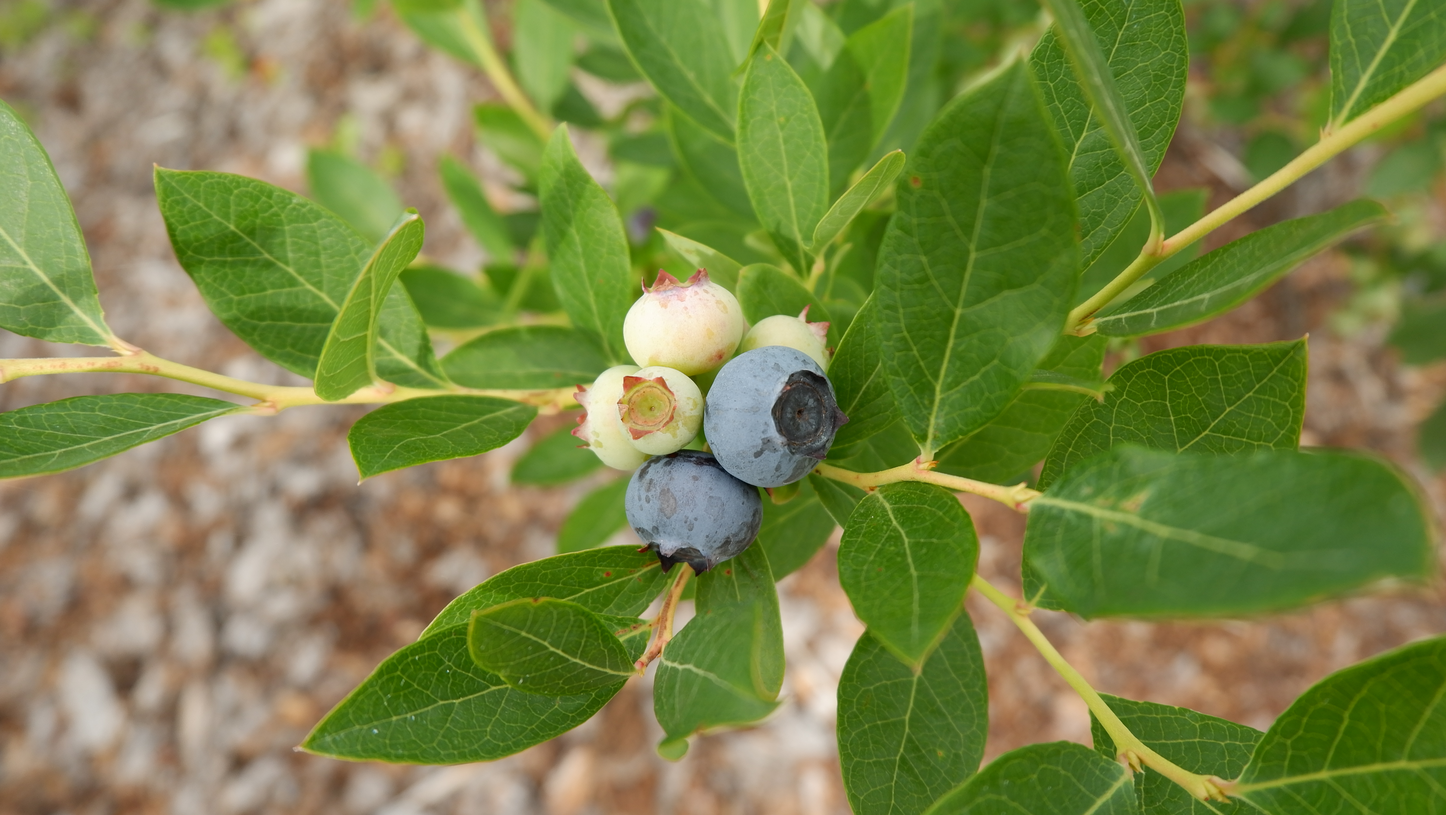Immature: (623, 266, 743, 377), (569, 365, 659, 470), (614, 365, 703, 455), (742, 303, 835, 374)
Mature: (703, 346, 850, 488), (626, 448, 763, 576)
